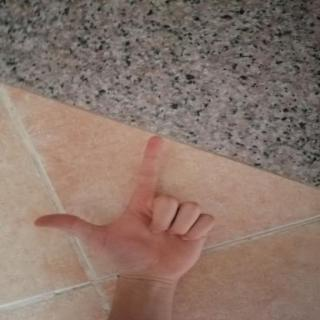LAAM: (18, 127, 228, 291)
